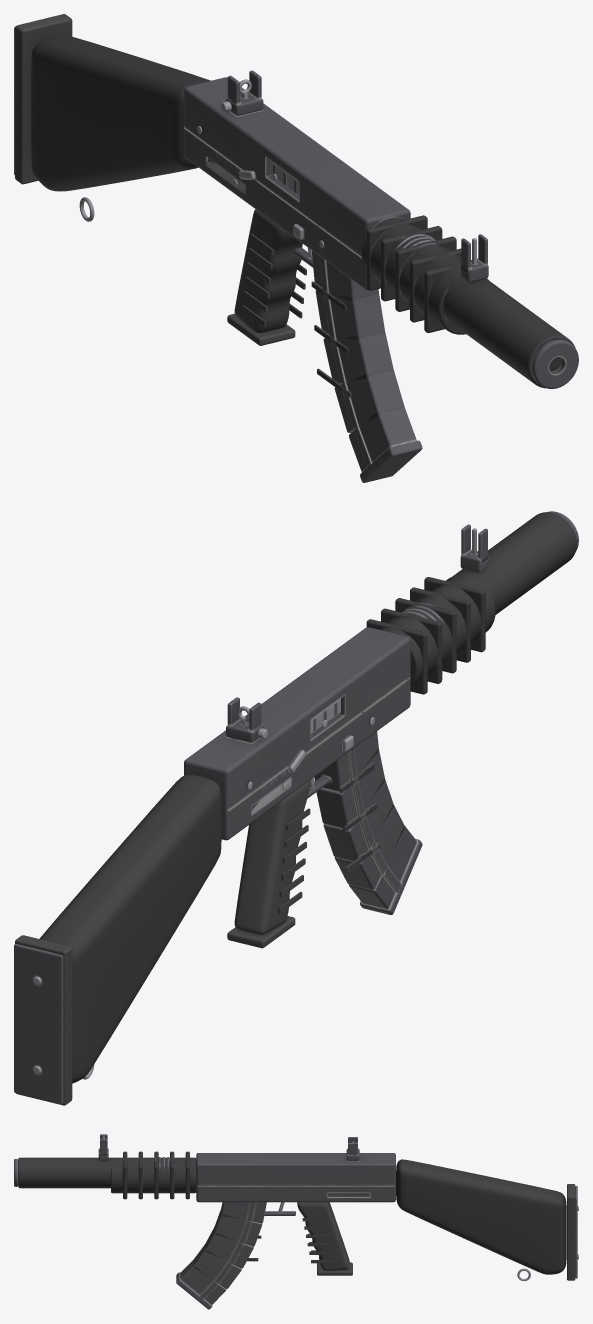
3 views of the same model, one above another, from view 1: azimuth 30°, elevation 25°; view 2: azimuth 150°, elevation 25°; view 3: azimuth 270°, elevation 25° (orthographic). The views are drawn at different scales.
Visible parts, largest first — view 1: mp5sd; view 2: mp5sd; view 3: mp5sd.
Part boxes in pixels (bbox=[...]): mp5sd: bbox=[14, 14, 578, 482]; mp5sd: bbox=[14, 511, 578, 1105]; mp5sd: bbox=[14, 1134, 578, 1309].
Size of the model in its own units: 0.052 by 0.2618 by 0.793.
